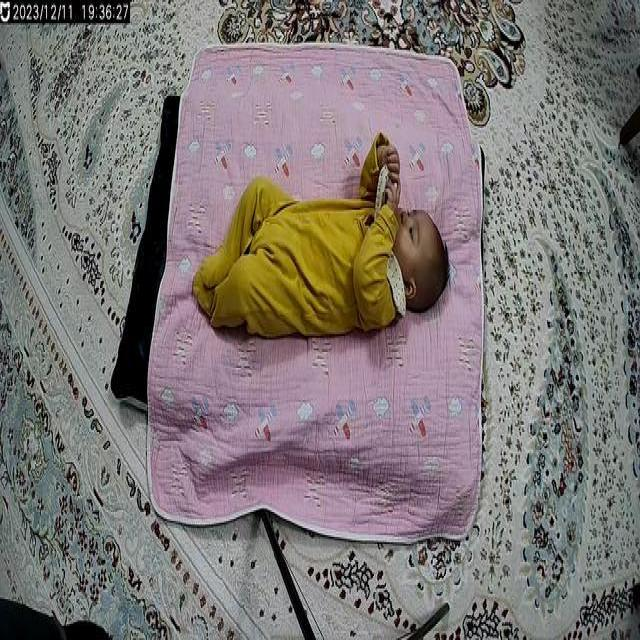baby: (191, 129, 452, 338)
